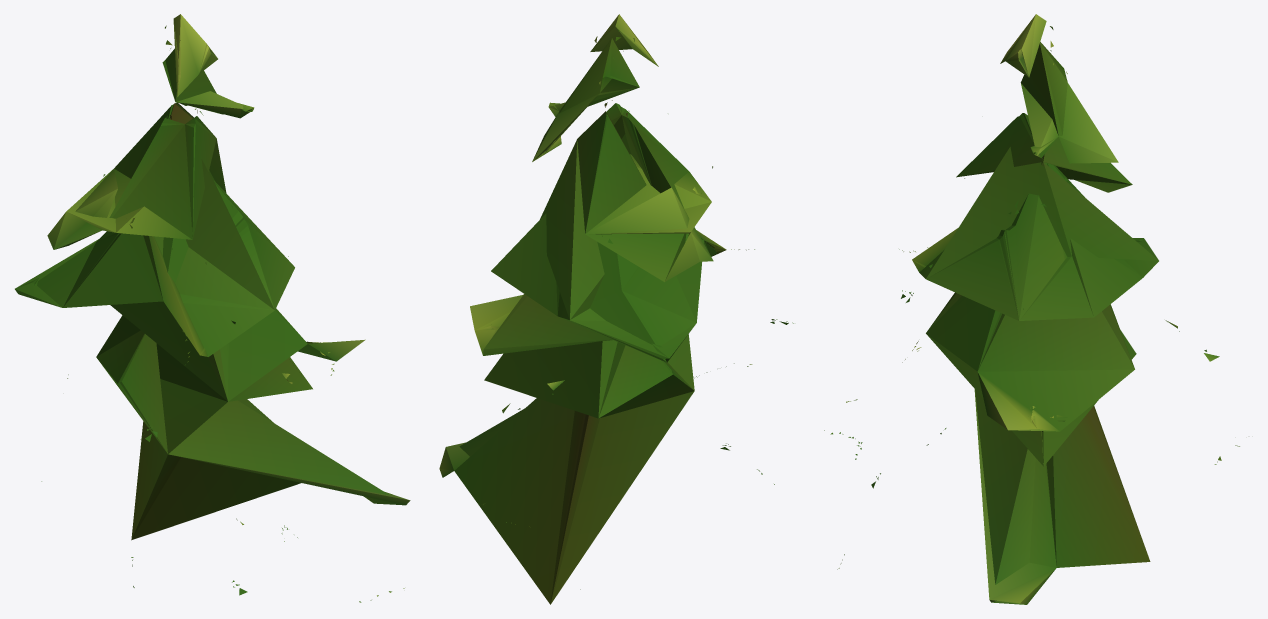
Rendered from summer_spruce_lod.glb.
The picture shows the model from 3 angles, left to right: view 1: azimuth 30°, elevation 25°; view 2: azimuth 150°, elevation 25°; view 3: azimuth 270°, elevation 25°; orthographic projection. The views are drawn at different scales.
Parts seen in each view (by area): view 1: summer_spruce_lod; view 2: summer_spruce_lod; view 3: summer_spruce_lod.
Part boxes in pixels (<box>): summer_spruce_lod: <box>15,14,410,602</box>; summer_spruce_lod: <box>439,14,793,604</box>; summer_spruce_lod: <box>824,14,1239,604</box>.
Bounding box in the file's own units: 0.7307 × 1.26 × 0.9032.
